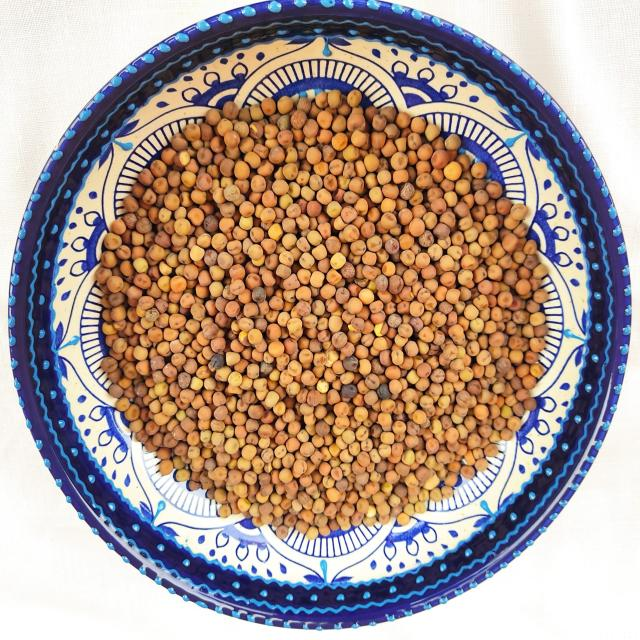lentejas: (109, 107, 551, 542)
